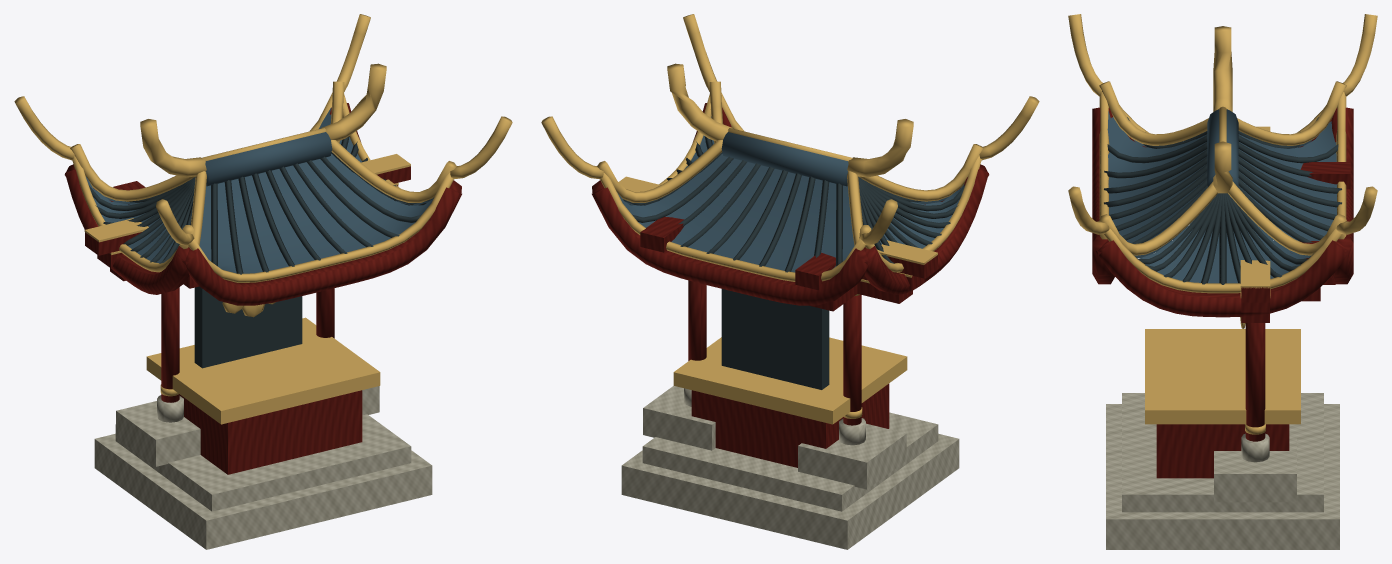
Rendered from shrine.glb.
3 views of the same model, side by side, from view 1: azimuth 30°, elevation 25°; view 2: azimuth 150°, elevation 25°; view 3: azimuth 270°, elevation 25° (orthographic). The views are drawn at different scales.
Visible parts, largest first — view 1: shrine_Temple_Antique_Gold, shrine_Temple_Worn_Pale_Stone, shrine_Temple_Red_Timber, shrine_Temple_Charcoal_Glazed_Tiles, shrine_Temple_Dark_Ridge_and_Iron; view 2: shrine_Temple_Worn_Pale_Stone, shrine_Temple_Antique_Gold, shrine_Temple_Red_Timber, shrine_Temple_Dark_Ridge_and_Iron, shrine_Temple_Charcoal_Glazed_Tiles; view 3: shrine_Temple_Antique_Gold, shrine_Temple_Worn_Pale_Stone, shrine_Temple_Red_Timber, shrine_Temple_Dark_Ridge_and_Iron, shrine_Temple_Charcoal_Glazed_Tiles.
Part boxes in pixels (x1,y1,x2,y2): shrine_Temple_Antique_Gold: [14, 14, 512, 424]; shrine_Temple_Worn_Pale_Stone: [94, 386, 432, 549]; shrine_Temple_Red_Timber: [64, 103, 461, 474]; shrine_Temple_Charcoal_Glazed_Tiles: [86, 107, 434, 273]; shrine_Temple_Dark_Ridge_and_Iron: [88, 136, 429, 368]; shrine_Temple_Worn_Pale_Stone: [621, 385, 959, 549]; shrine_Temple_Antique_Gold: [541, 14, 1039, 424]; shrine_Temple_Red_Timber: [592, 103, 989, 467]; shrine_Temple_Dark_Ridge_and_Iron: [623, 136, 965, 389]; shrine_Temple_Charcoal_Glazed_Tiles: [617, 116, 964, 272]; shrine_Temple_Antique_Gold: [1068, 14, 1377, 434]; shrine_Temple_Worn_Pale_Stone: [1106, 393, 1339, 549]; shrine_Temple_Red_Timber: [1092, 107, 1353, 478]; shrine_Temple_Dark_Ridge_and_Iron: [1104, 117, 1341, 284]; shrine_Temple_Charcoal_Glazed_Tiles: [1107, 109, 1337, 283].
Bounding box in the file's own units: 3.3 × 3.44 × 2.38.
Materials: 5 (2 with a texture image).
